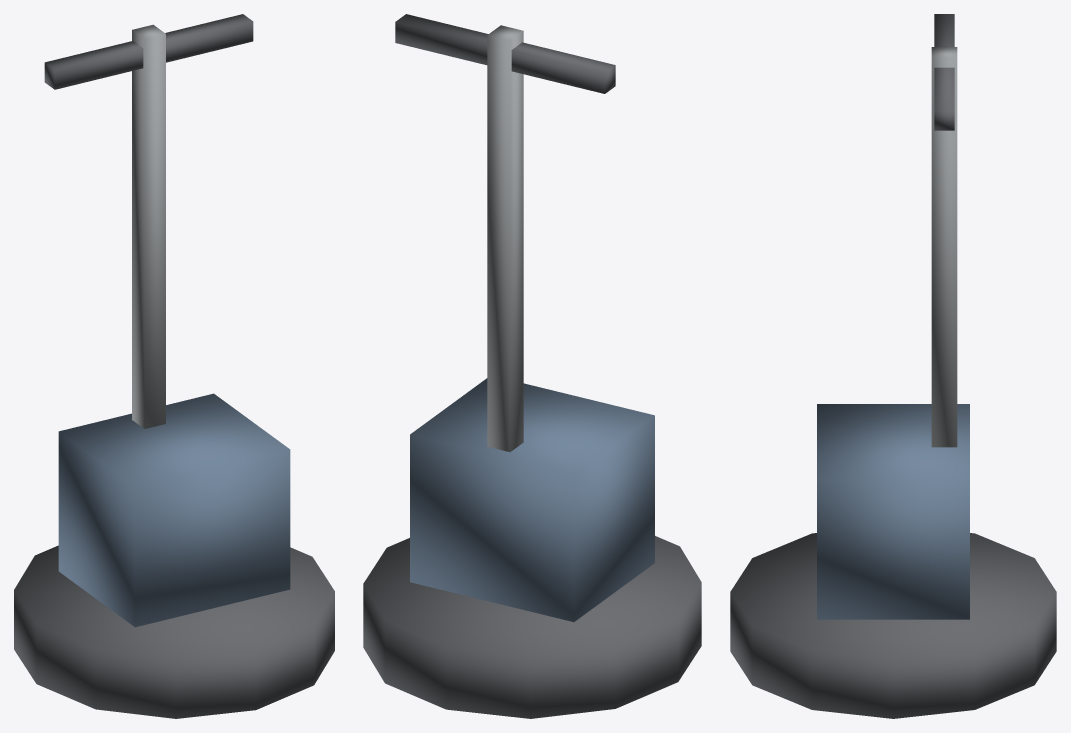
The model's file is floor_buffer__compact.glb.
The picture shows the model from 3 angles, left to right: view 1: azimuth 30°, elevation 25°; view 2: azimuth 150°, elevation 25°; view 3: azimuth 270°, elevation 25°; orthographic projection. The views are drawn at different scales.
Visible parts, largest first — view 1: world; view 2: world; view 3: world.
Part boxes in pixels (bbox=[...]): world: bbox=[14, 14, 334, 718]; world: bbox=[363, 14, 701, 718]; world: bbox=[730, 14, 1056, 718].
Bounding box in the file's own units: 0.5376 × 1.12 × 0.5504.
